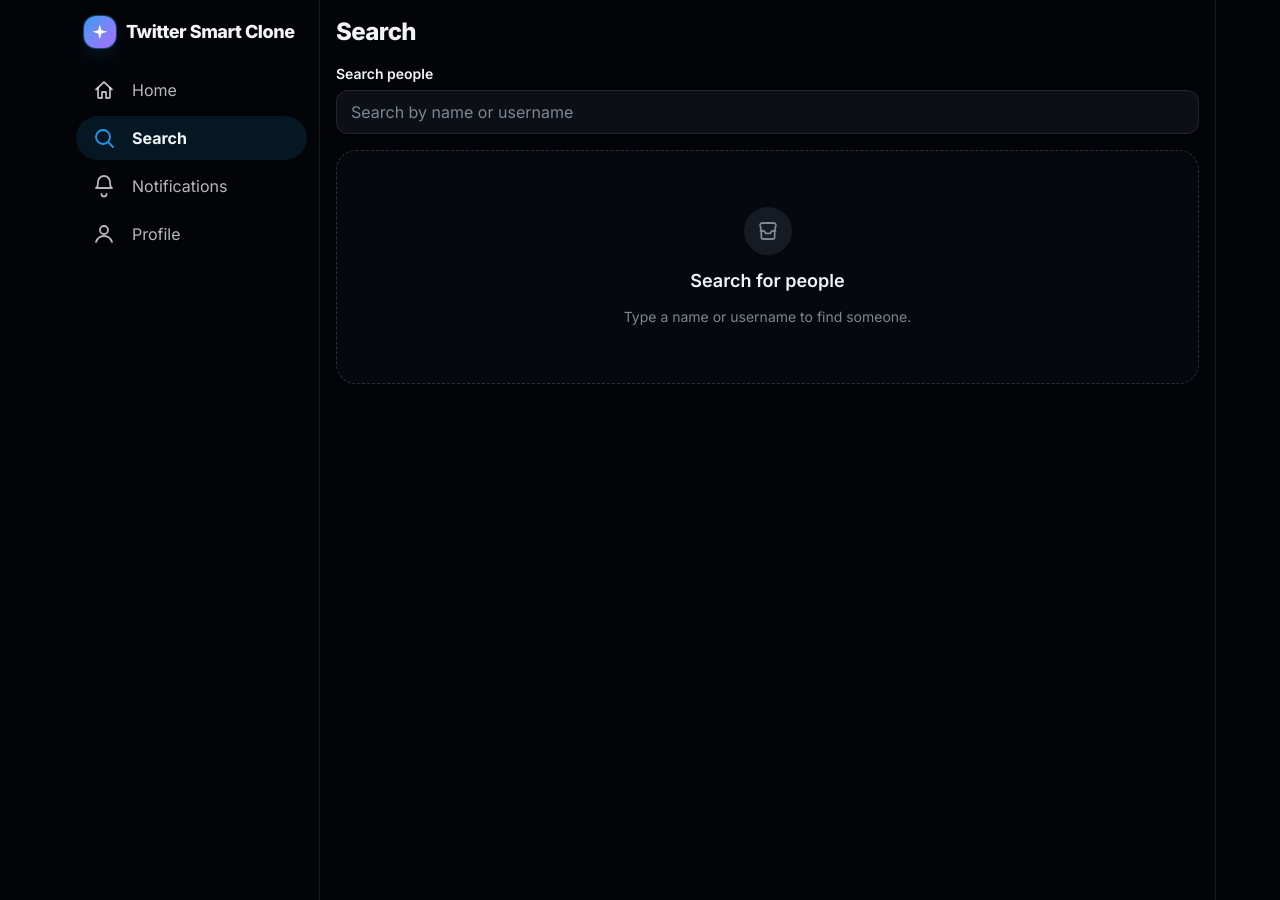
Test: Search › shows a no-results empty state
Expected: the heading "Search" is shown, x1=336 y1=17 x2=416 y2=46
Type "nobody" into the field labelled "Search people" at (768, 112), box x1=336 y1=90 x2=1199 y2=134
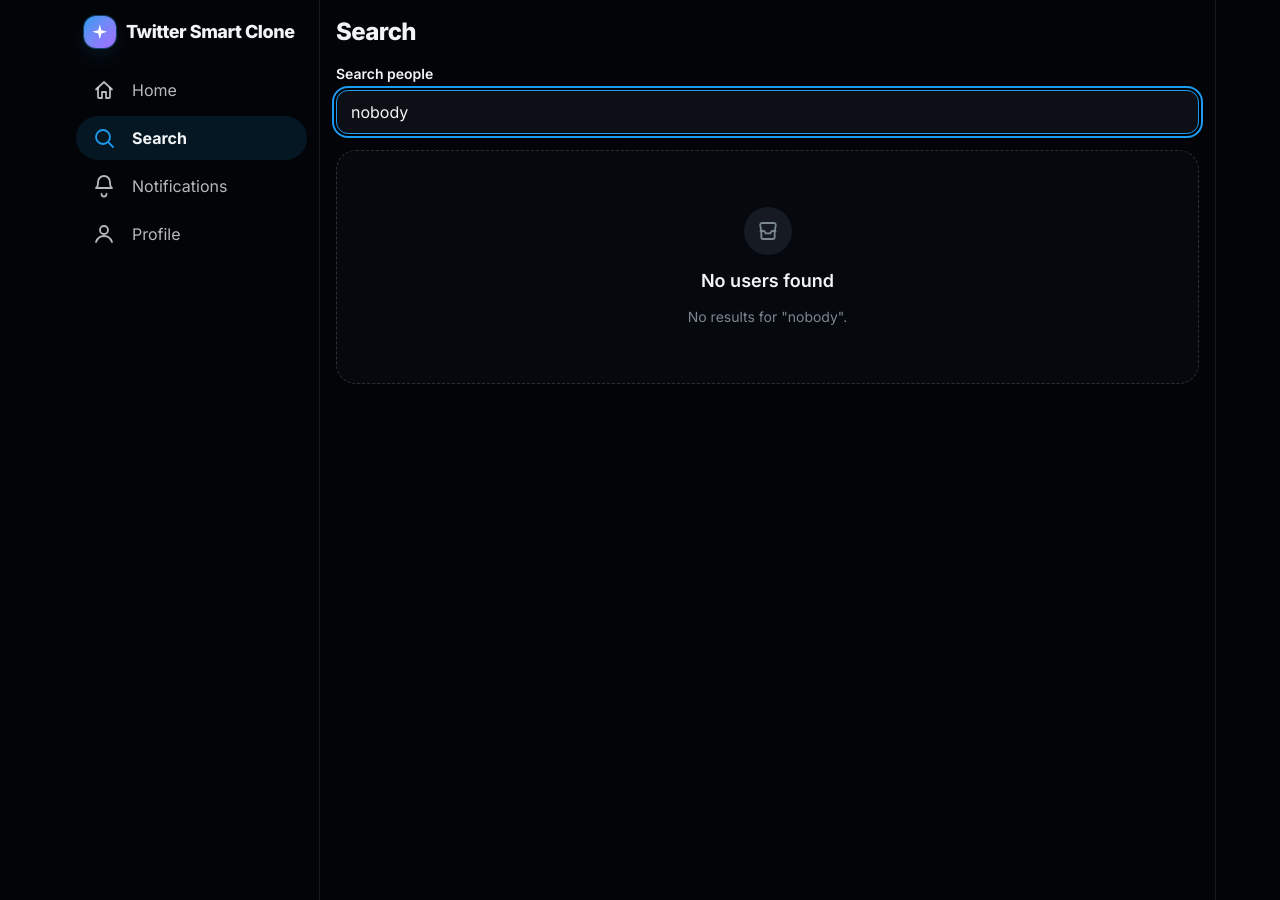
Expected: the text "No users found" is shown, x1=701 y1=267 x2=834 y2=295
